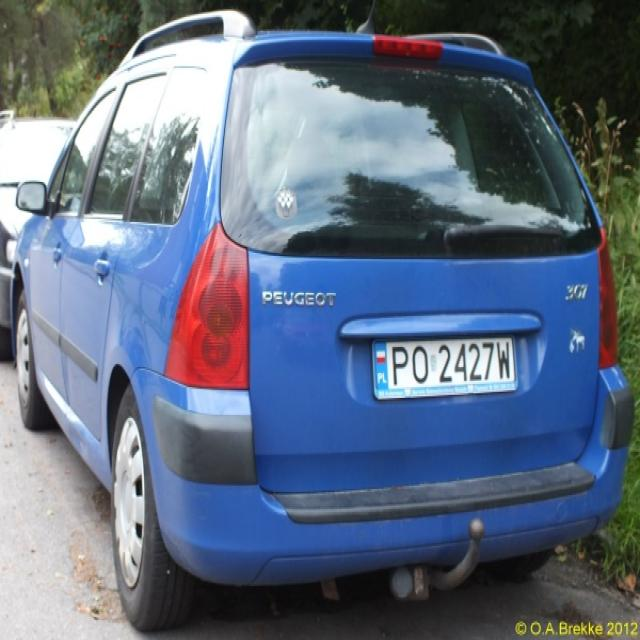pl_license_plate: (370, 336, 515, 389)
